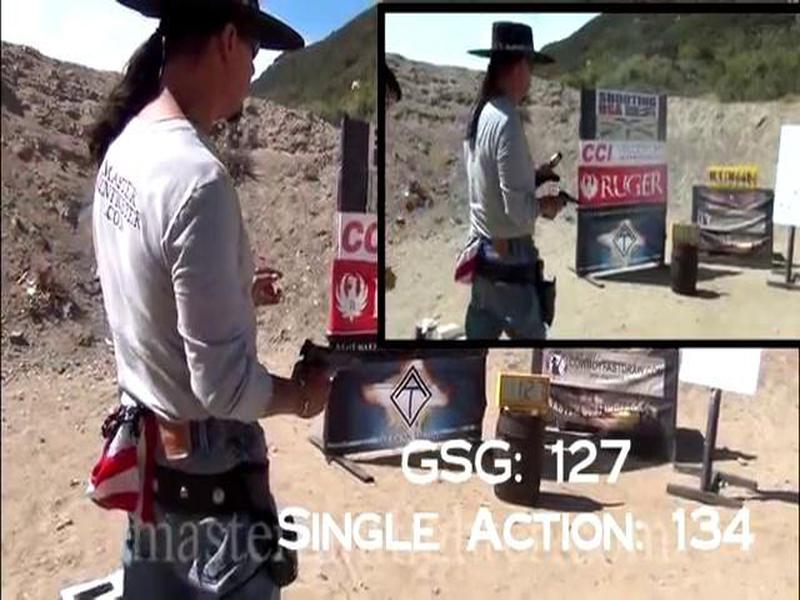Pistola: (267, 331, 378, 412)
